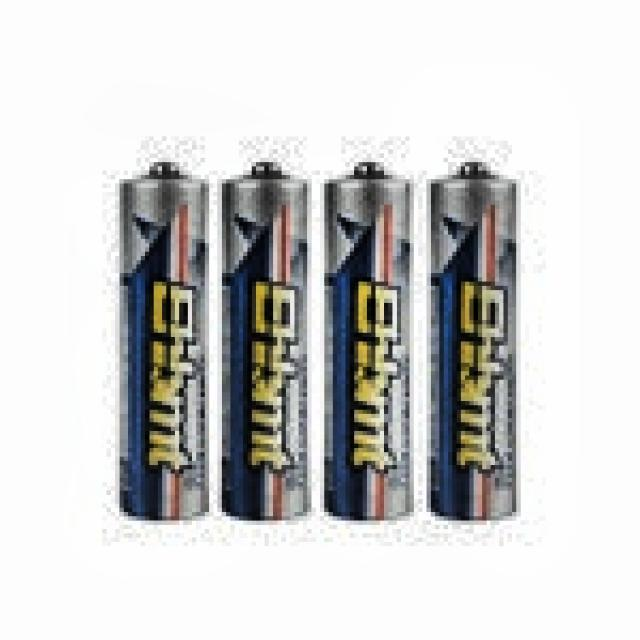Non-Valuable Waste - Batteries: (120, 163, 207, 518), (223, 163, 309, 519), (430, 163, 516, 518), (325, 163, 411, 518)
